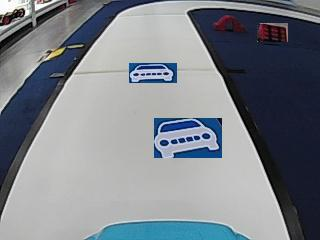bridge: (213, 15, 242, 31)
